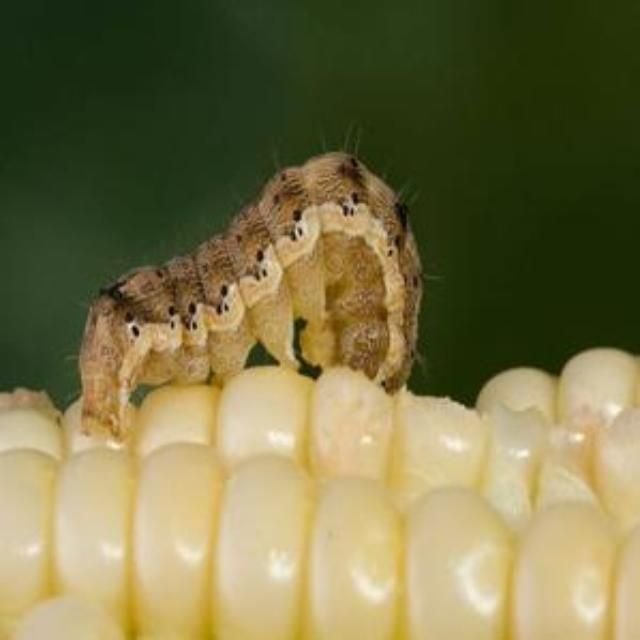Cotton bollworm: (46, 134, 458, 473)
